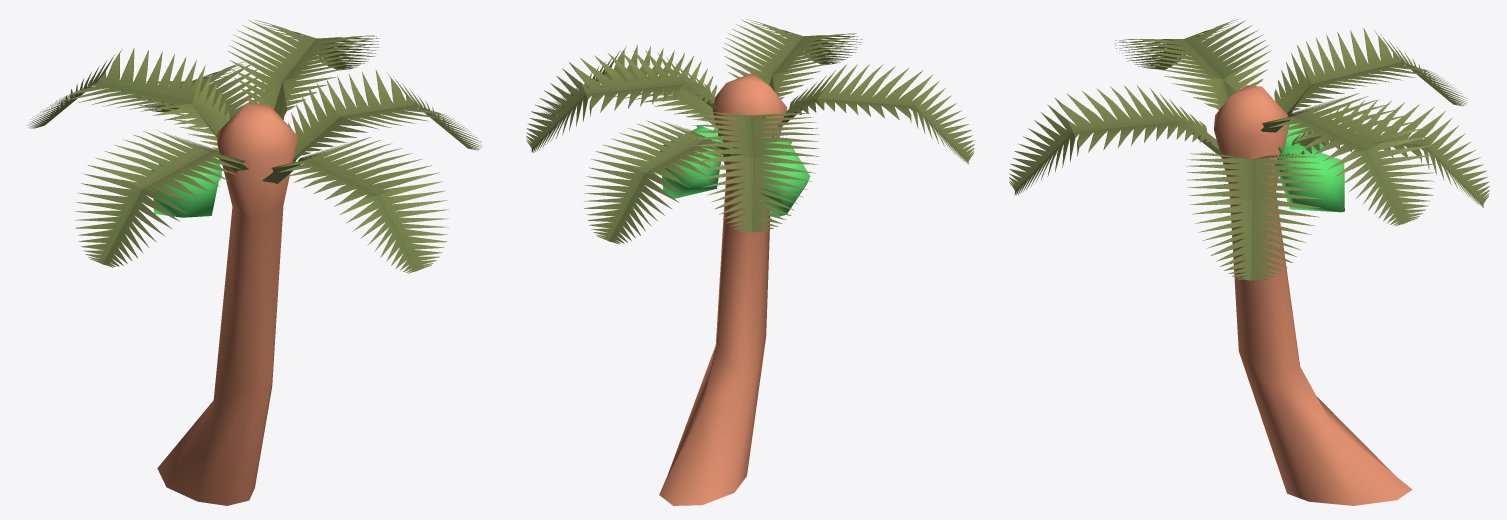
File: Palm_LOD2.fbx
3 views of the same model, side by side, from view 1: azimuth 30°, elevation 25°; view 2: azimuth 150°, elevation 25°; view 3: azimuth 270°, elevation 25° (orthographic). The views are drawn at different scales.
Parts seen in each view (by area): view 1: SM_Palm_LOD2; view 2: SM_Palm_LOD2; view 3: SM_Palm_LOD2.
Boxes of the visible parts, bbox=[...] form: SM_Palm_LOD2: bbox=[27, 20, 482, 505]; SM_Palm_LOD2: bbox=[526, 19, 974, 505]; SM_Palm_LOD2: bbox=[1009, 19, 1489, 505].
Bounding box in the file's own units: 378 × 358 × 381.
